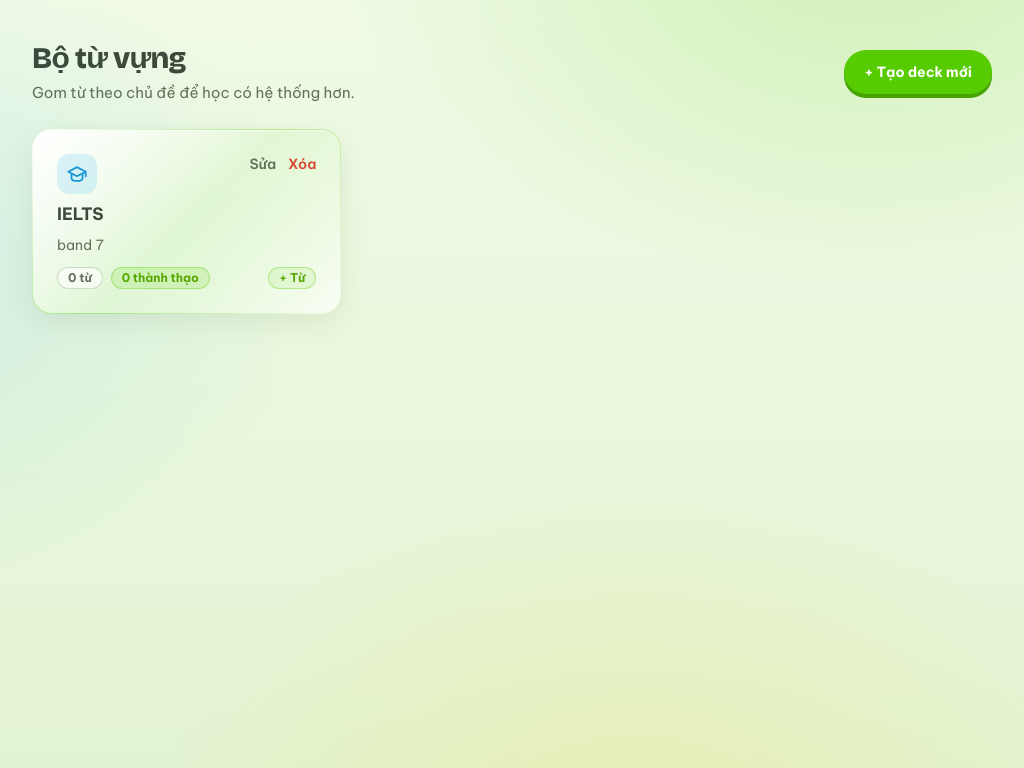
Scenario: the whole deck card links to the deck page, buttons stay usable
Check: the text "IELTS" is shown, box x1=57 y1=202 x2=104 y2=227
The action buttons sit above the overlay and keep working.
Click the button "Sửa": [263, 164] box x1=249 y1=154 x2=276 y2=174
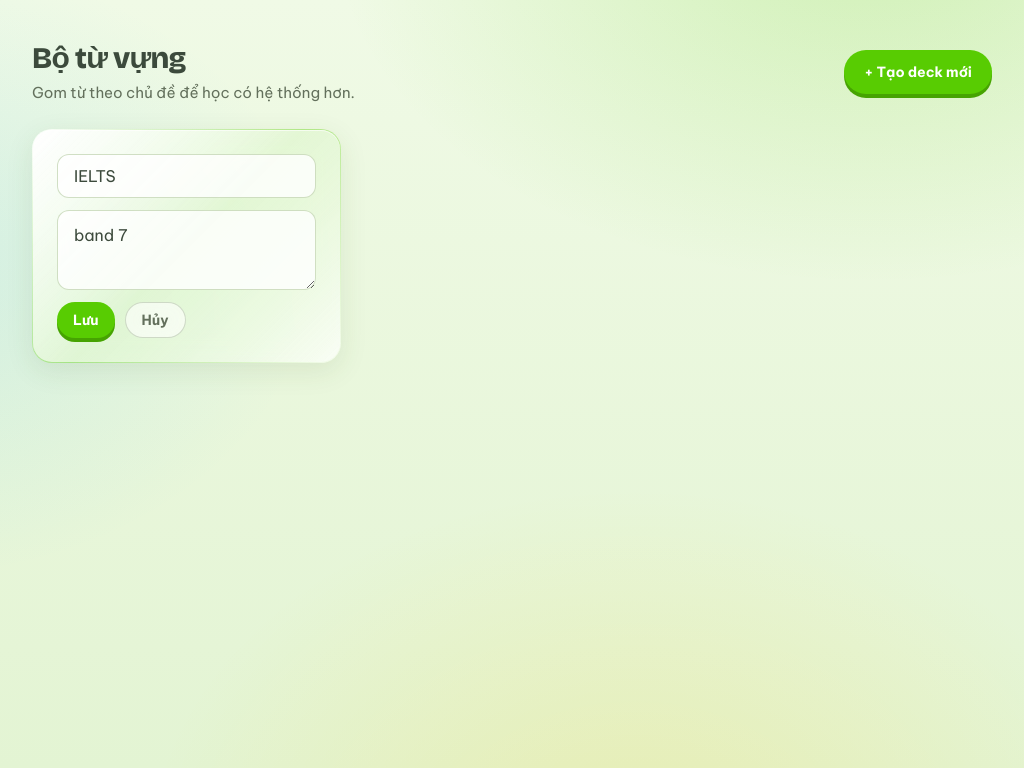
Check: the field named "Tên deck" is shown, box x1=57 y1=154 x2=316 y2=198
